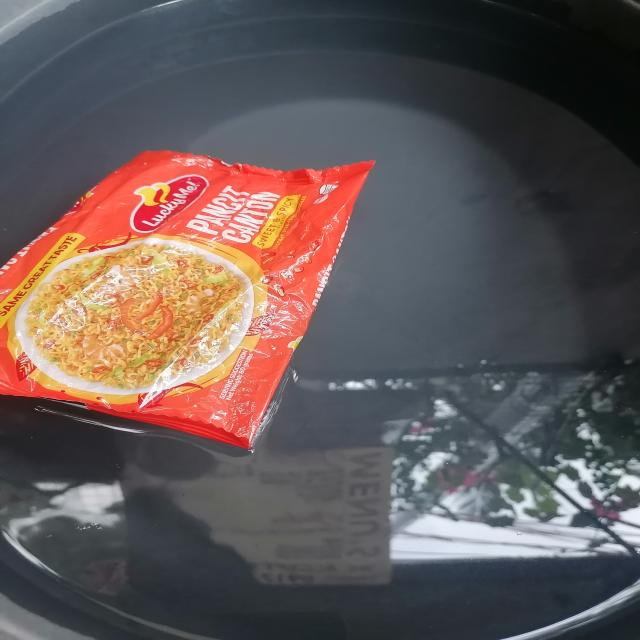Plastic Wrapper: (0, 128, 435, 462)
